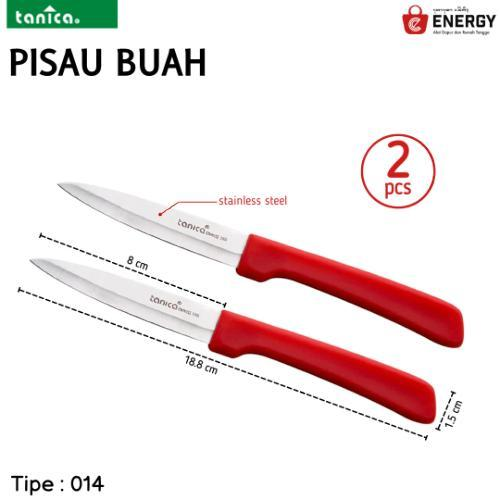faca: (27, 258, 434, 422), (62, 183, 462, 347)
